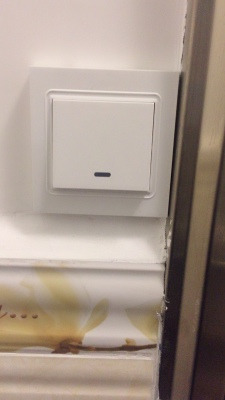switch: (39, 87, 166, 197)
